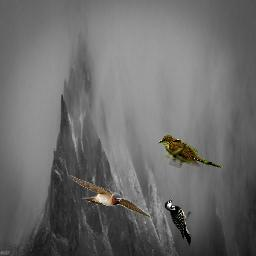Cuckoo: (158, 135, 223, 168)
Swallow: (66, 173, 153, 218)
Woodpecker: (164, 197, 191, 247)
